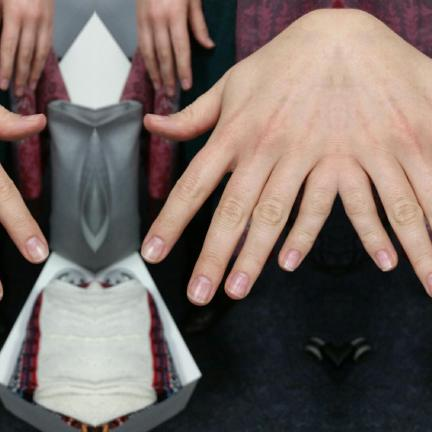Nail: (187, 276, 211, 303), (226, 272, 249, 298), (142, 237, 164, 262), (24, 237, 46, 262), (280, 250, 300, 272), (375, 250, 394, 272), (425, 274, 432, 298), (146, 114, 168, 121), (20, 114, 42, 121), (181, 79, 190, 90), (205, 37, 214, 46), (0, 79, 7, 90), (165, 87, 173, 96), (15, 87, 23, 96), (153, 83, 158, 89), (30, 83, 35, 89), (0, 290, 1, 297)
